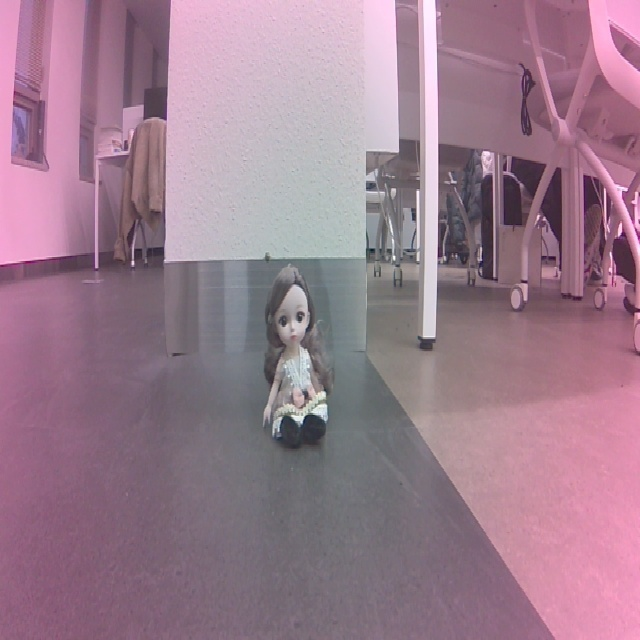장애물: (256, 262, 338, 455)
